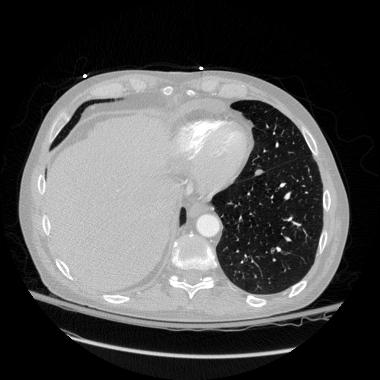nodule: (254, 168, 262, 176)
